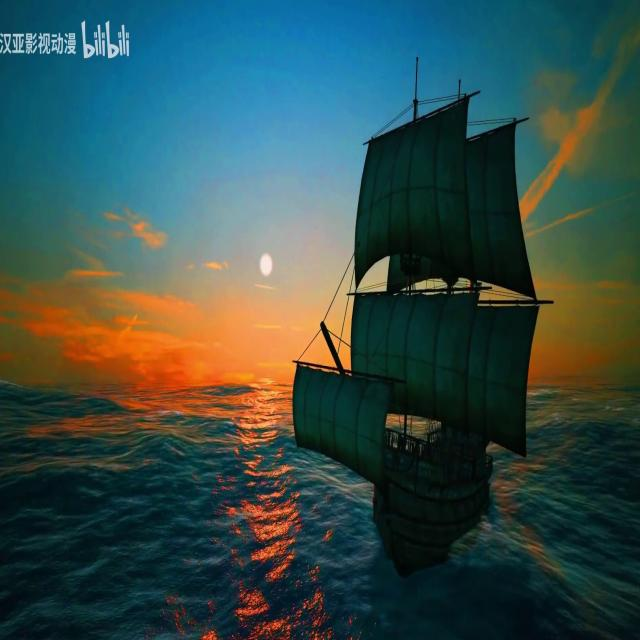sailboat: (291, 52, 544, 566)
